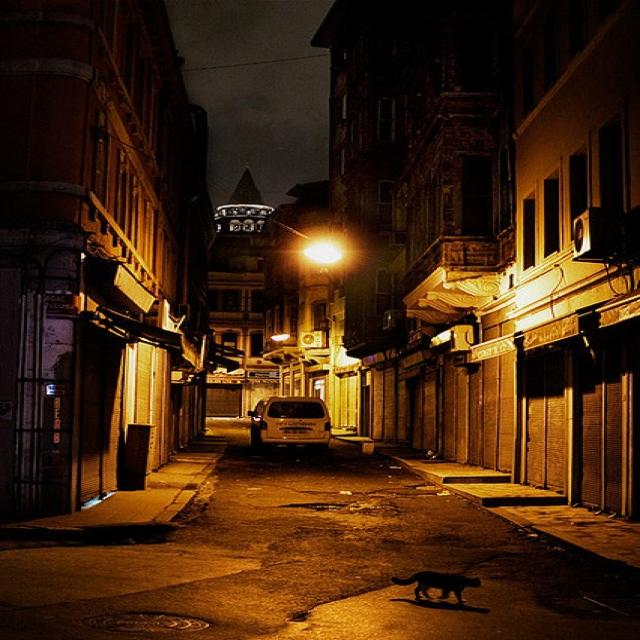Cat: (406, 550, 472, 639)
car: (235, 388, 370, 479)
